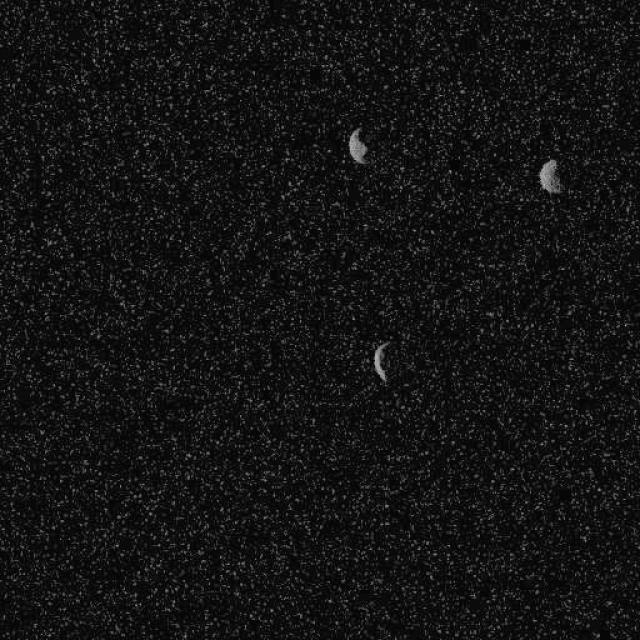D2: (538, 157, 564, 195), (371, 340, 390, 384), (348, 125, 368, 165)
